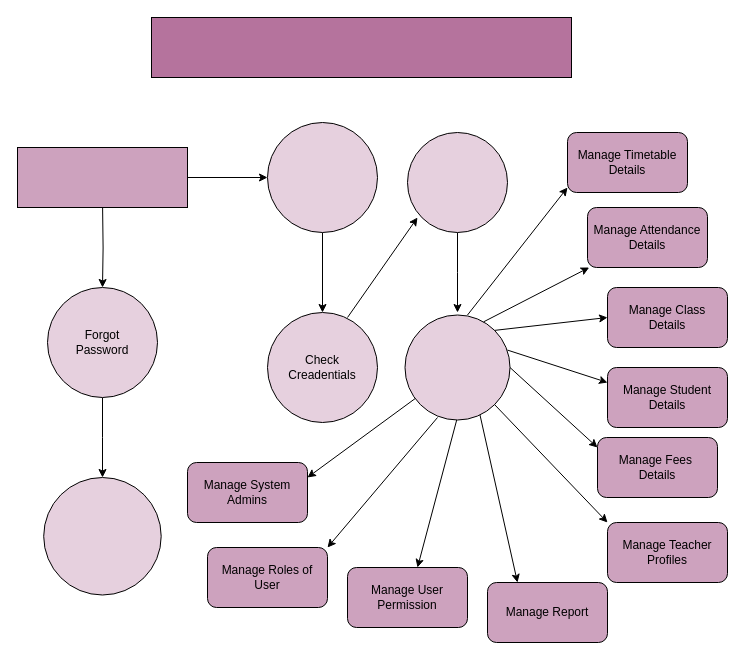
Some shapes in this 745 by 660 pixel diagram are drawn without their labels. The shapes that lost their labels are listed below. From the top down, each one's centre as x and y in pixels, then its label:
At point (361, 47): "Student Information System".
At point (102, 177): "Admin".
At point (322, 177): "Login to System".
At point (457, 182): "Check Roles of Access".
At point (457, 367): "Manage Modules".
At point (102, 535): "Send Email to User".
